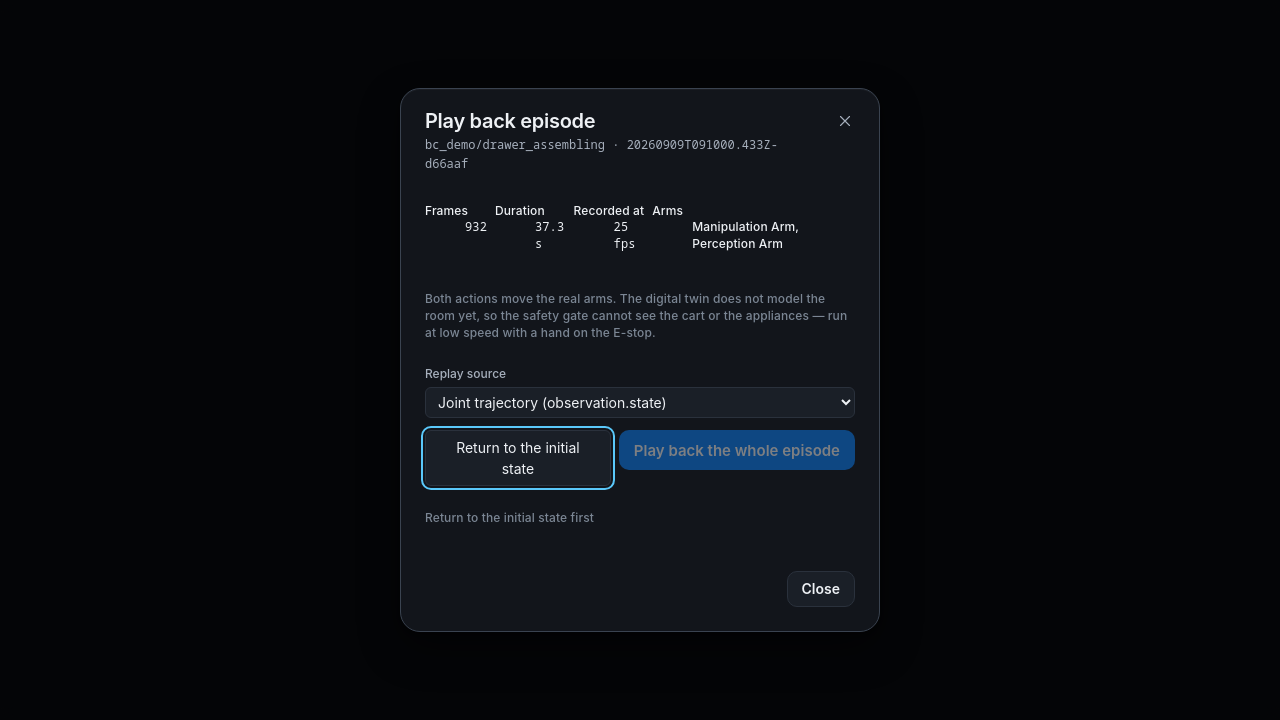
it: PlaybackDialog › a REFUSED return leaves Playback disabled and shows the runtime's reason
Check: the element with test id "playback-meta" is shown, box [425, 200, 855, 255]
Click the button with test id "playback-goto-initial": click(518, 458) [425, 430, 611, 486]
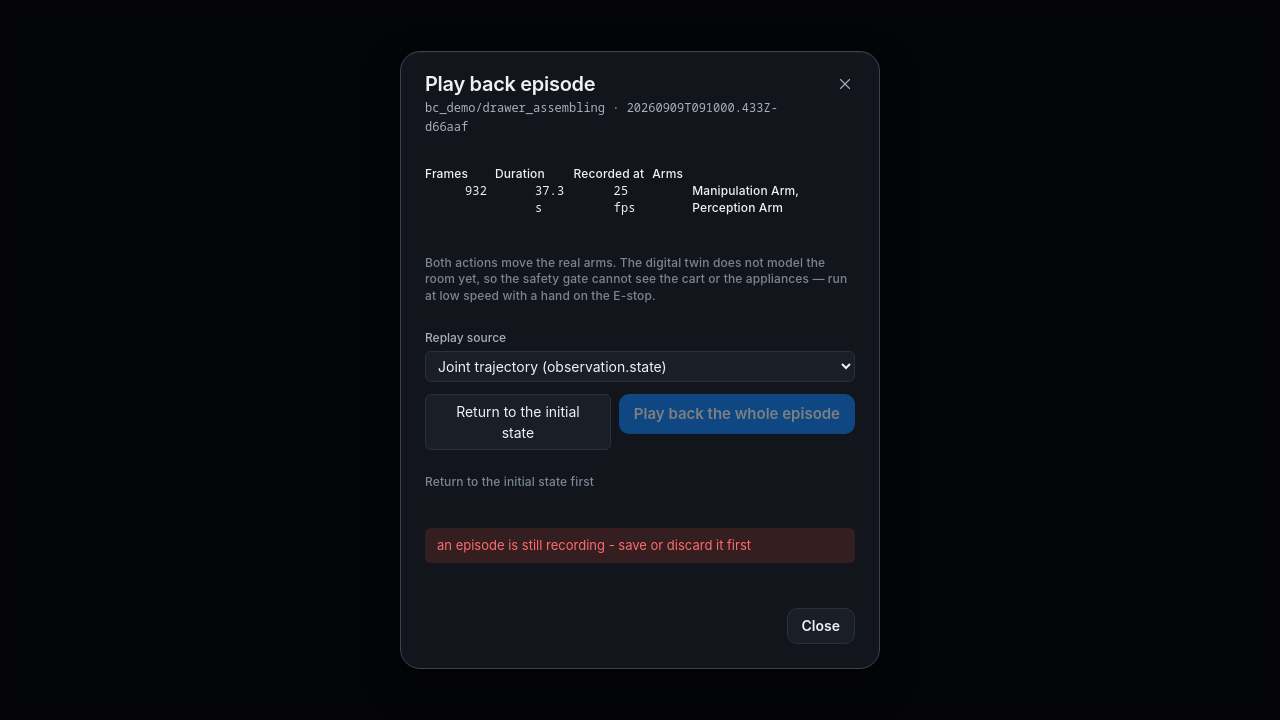
Check: the button with test id "playback-play" is disabled, box [619, 394, 855, 434]
Check: the message "an episode is still recording - save or discard it first" is shown, box [425, 528, 855, 562]
Check: the message with test id "playback-outcome" shows "still recording", box [437, 537, 751, 553]
